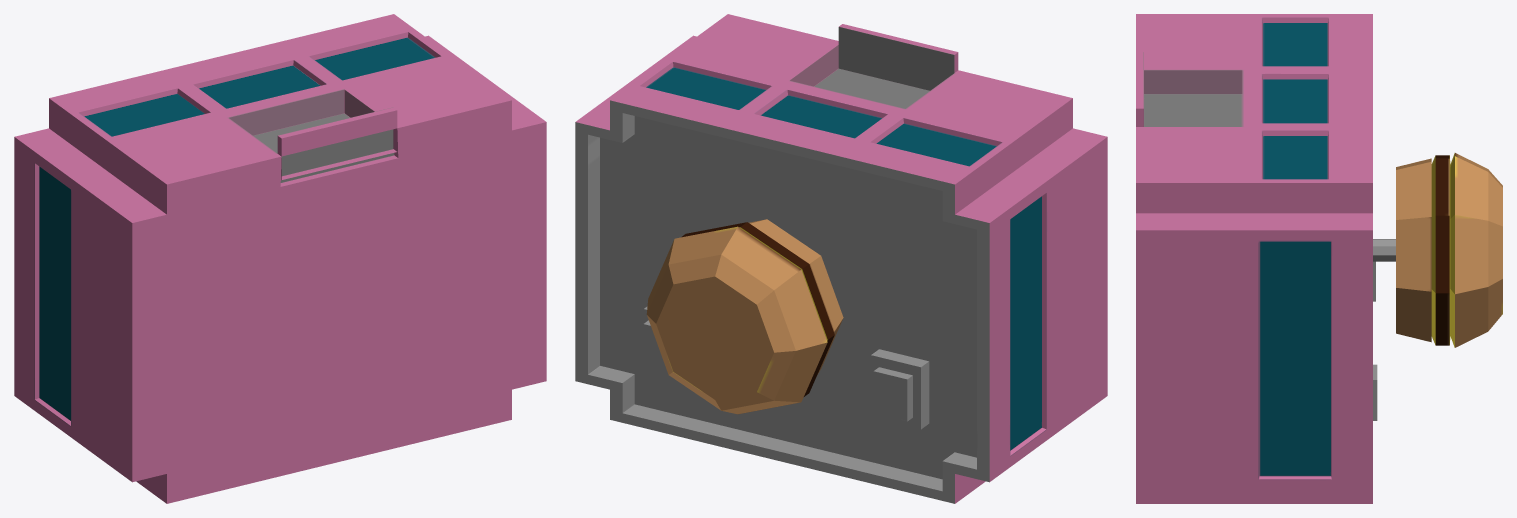
File: stores-buildings-burguer.obj
The picture shows the model from 3 angles, left to right: view 1: azimuth 30°, elevation 25°; view 2: azimuth 150°, elevation 25°; view 3: azimuth 270°, elevation 25°; orthographic projection.
Visible parts, largest first — view 1: stores-buildings-burguer_Plane.149; view 2: stores-buildings-burguer_Plane.149; view 3: stores-buildings-burguer_Plane.149.
Boxes of the visible parts, left/top/right/bottom form: stores-buildings-burguer_Plane.149: left=14, top=14, right=546, bottom=503; stores-buildings-burguer_Plane.149: left=575, top=14, right=1107, bottom=503; stores-buildings-burguer_Plane.149: left=1136, top=14, right=1502, bottom=503.
Bounding box in the file's own units: 8.03 × 6.25 × 6.13.
